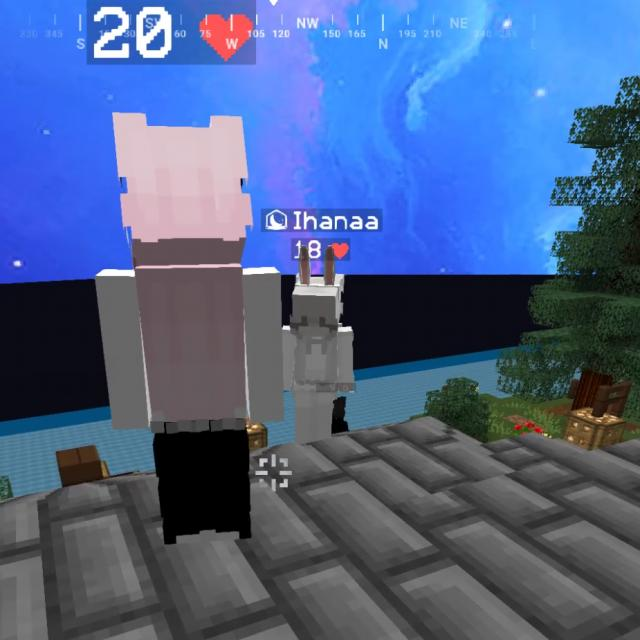Player: (95, 112, 283, 544), (281, 276, 354, 442)
